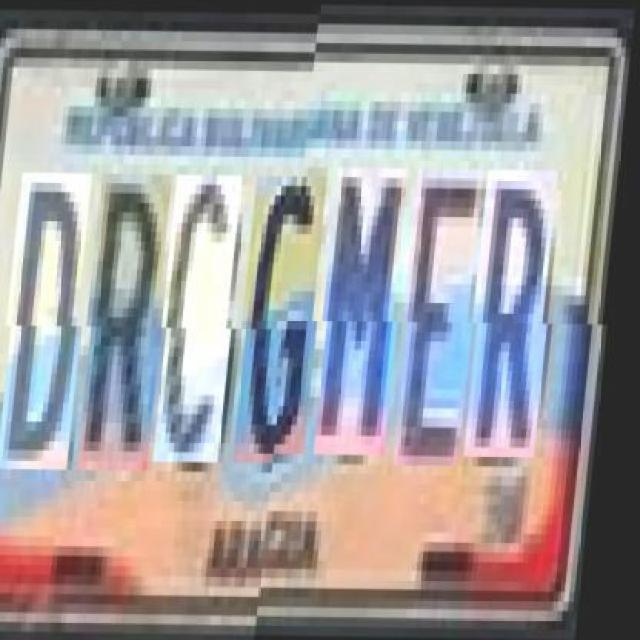c: (163, 174, 251, 461)
d: (7, 172, 101, 470)
e: (402, 177, 491, 474)
g: (242, 175, 336, 462)
m: (322, 175, 416, 463)
r: (87, 174, 181, 471), (472, 178, 566, 465)
